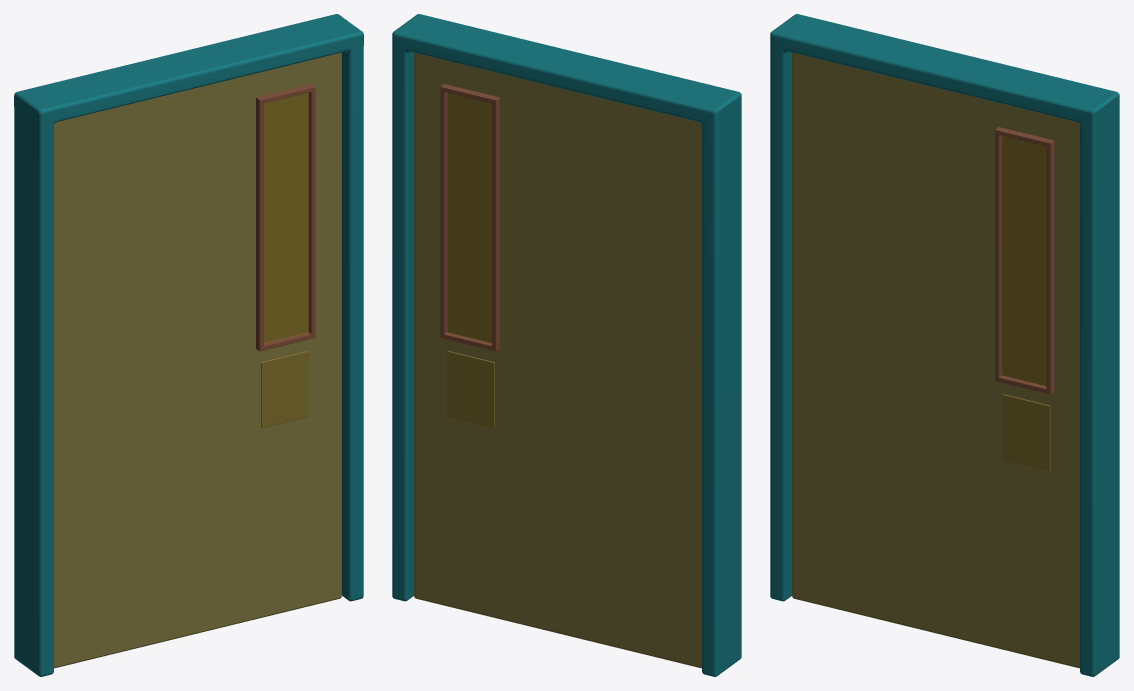
File: Door_Small.fbx
3 renders of one model, left to right at view 1: azimuth 30°, elevation 25°; view 2: azimuth 150°, elevation 25°; view 3: azimuth 330°, elevation 25°, orthographic.
Parts seen in each view (by area): view 1: Door_Main (×4), Door_Frame; view 2: Door_Main (×4), Door_Frame; view 3: Door_Main (×4), Door_Frame.
Boxes of the visible parts, left/top/right/bottom form: Door_Main (×4): left=54, top=52, right=341, bottom=668; Door_Frame: left=14, top=14, right=363, bottom=676; Door_Main (×4): left=414, top=52, right=701, bottom=668; Door_Frame: left=392, top=14, right=741, bottom=676; Door_Main (×4): left=792, top=52, right=1079, bottom=668; Door_Frame: left=770, top=14, right=1119, bottom=676.
Size of the model in its own units: 4.2 by 7.01 by 0.6.
